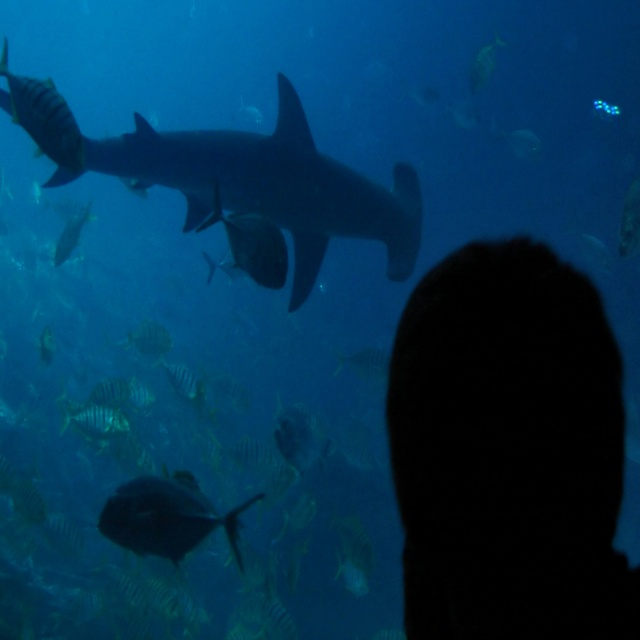Shark: (9, 70, 438, 317)
